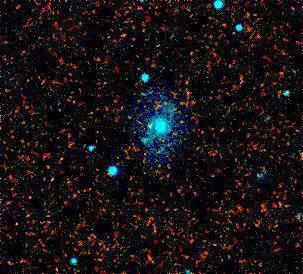star: (135, 110, 165, 140)
